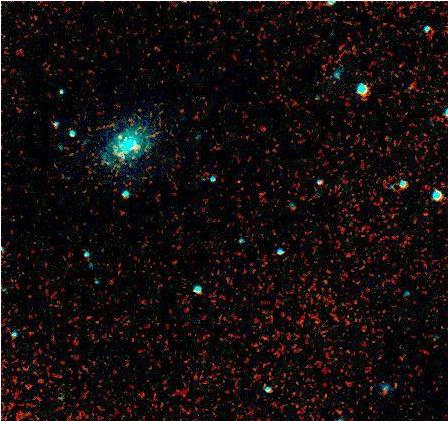star: (104, 121, 134, 151)
